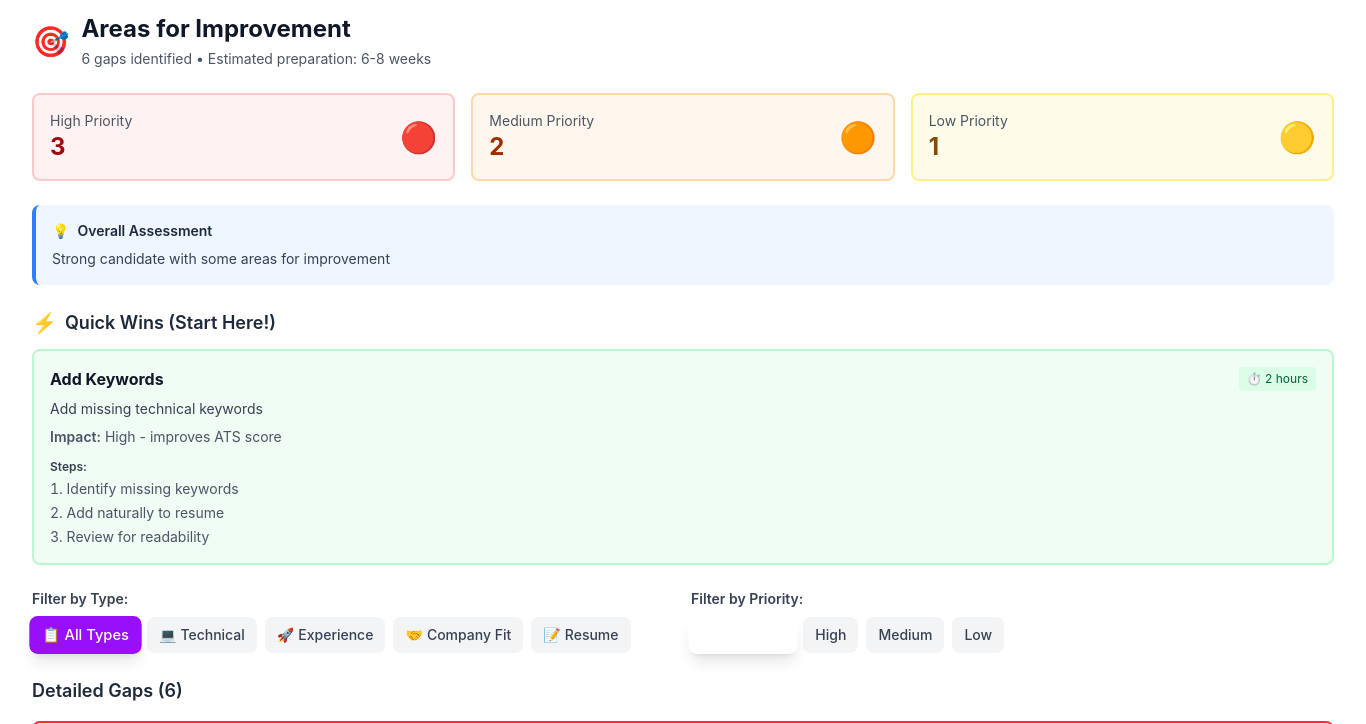
Scenario: GapsSection › type filtering › filters to company fit gaps only
Click the button named "🤝 Company Fit" at point(458, 635), box [393,617,523,653]
(page scrolled)
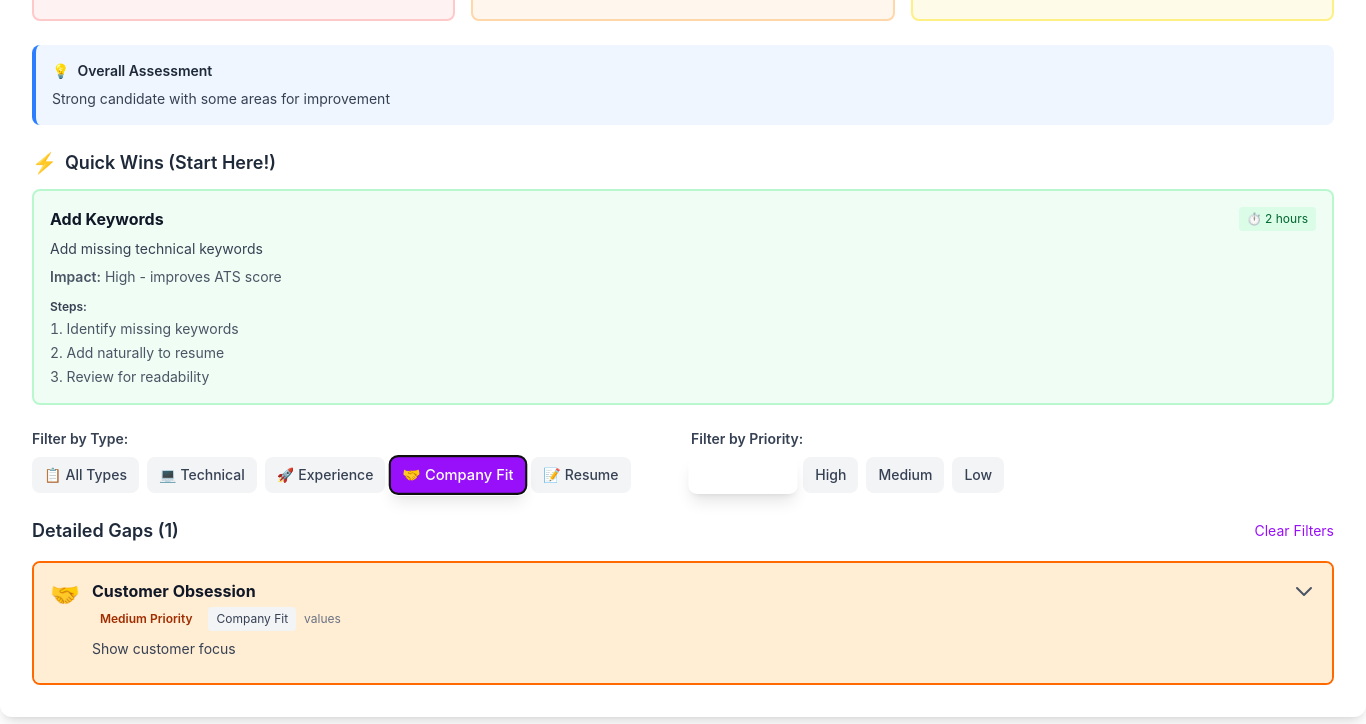
Expected: the heading "Customer Obsession" is shown, [92,581,256,601]
Expected: the heading "Detailed Gaps (1)" is shown, [32,517,179,545]
